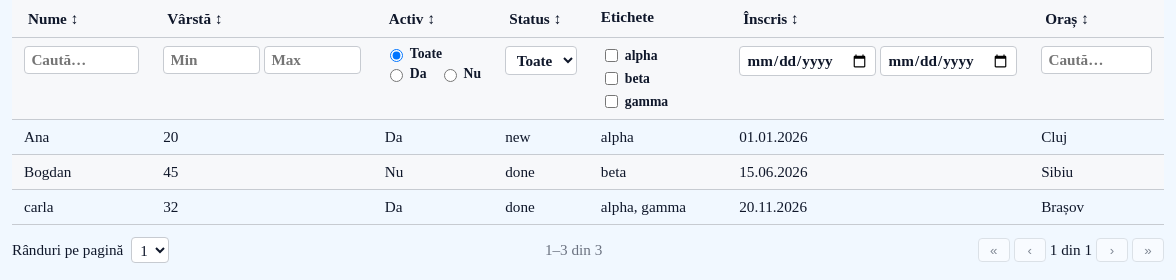
Scenario: DataTable pagination › paginates client-side and offers next/previous controls
Select "1" in the dropdown labelled "Rânduri pe pagină" at (150,250), box x1=131 y1=237 x2=169 y2=263
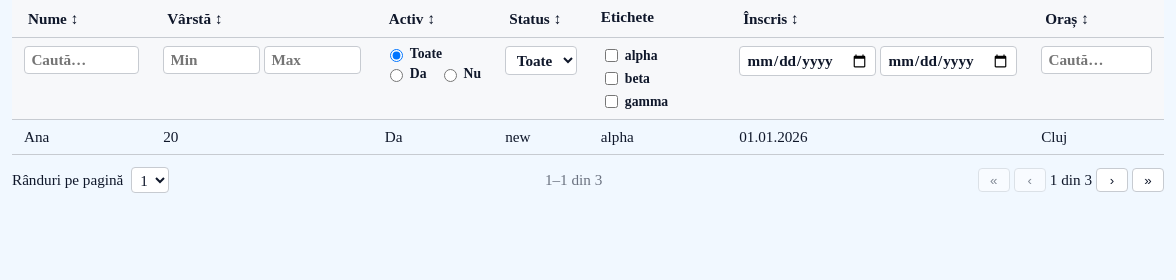
Expected: the number of rows is 3, x1=12 y1=0 x2=1164 y2=38; x1=12 y1=38 x2=1164 y2=120; x1=12 y1=120 x2=1164 y2=155
Click the button named "Pagina următoare" at (1112,180), box x1=1096 y1=168 x2=1128 y2=192
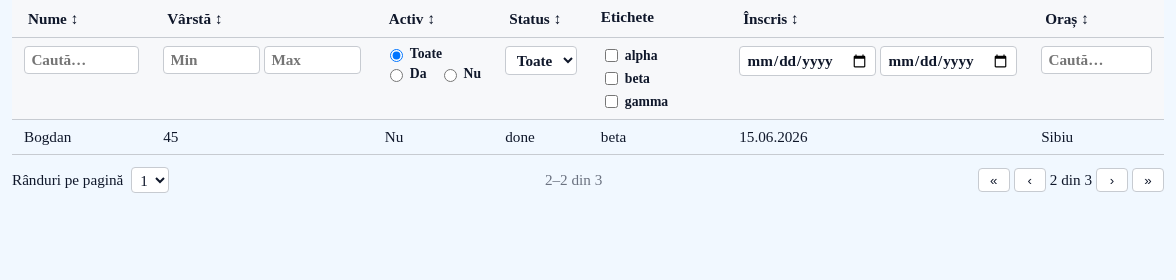
Expected: the row "Bogdan 45 Nu done beta 15.06.2026 Sibiu" is shown, x1=12 y1=120 x2=1164 y2=155
Click the button named "Pagina anterioară" at (1030,180), box x1=1014 y1=168 x2=1046 y2=192
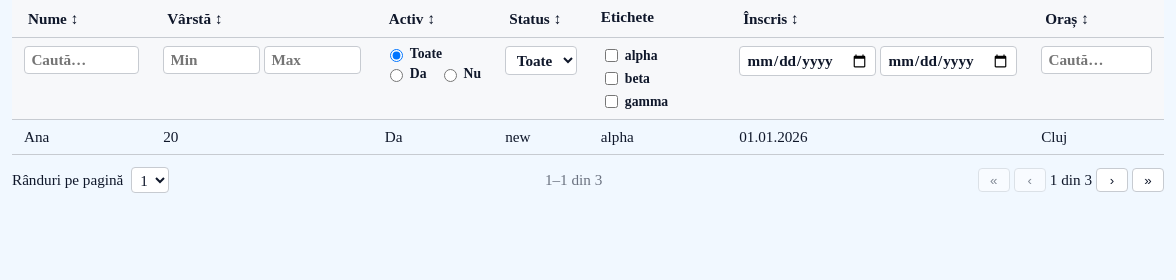
Expected: the row "Ana 20 Da new alpha 01.01.2026 Cluj" is shown, x1=12 y1=120 x2=1164 y2=155
Click the button named "Ultima pagină" at (1148,180), box x1=1132 y1=168 x2=1164 y2=192
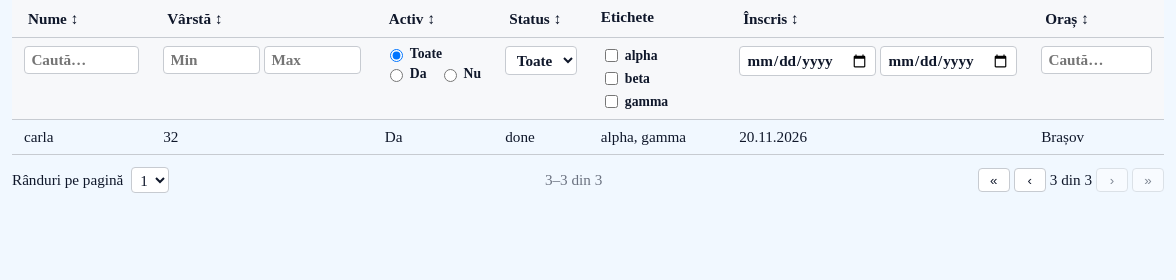
Expected: the row "carla 32 Da done alpha, gamma 20.11.2026 Brașov" is shown, x1=12 y1=120 x2=1164 y2=155
Click the button named "Prima pagină" at (994,180), box x1=978 y1=168 x2=1010 y2=192
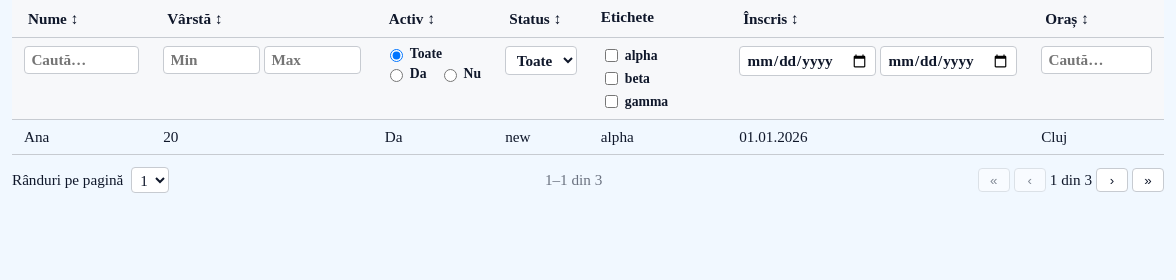
Expected: the row "Ana 20 Da new alpha 01.01.2026 Cluj" is shown, x1=12 y1=120 x2=1164 y2=155
